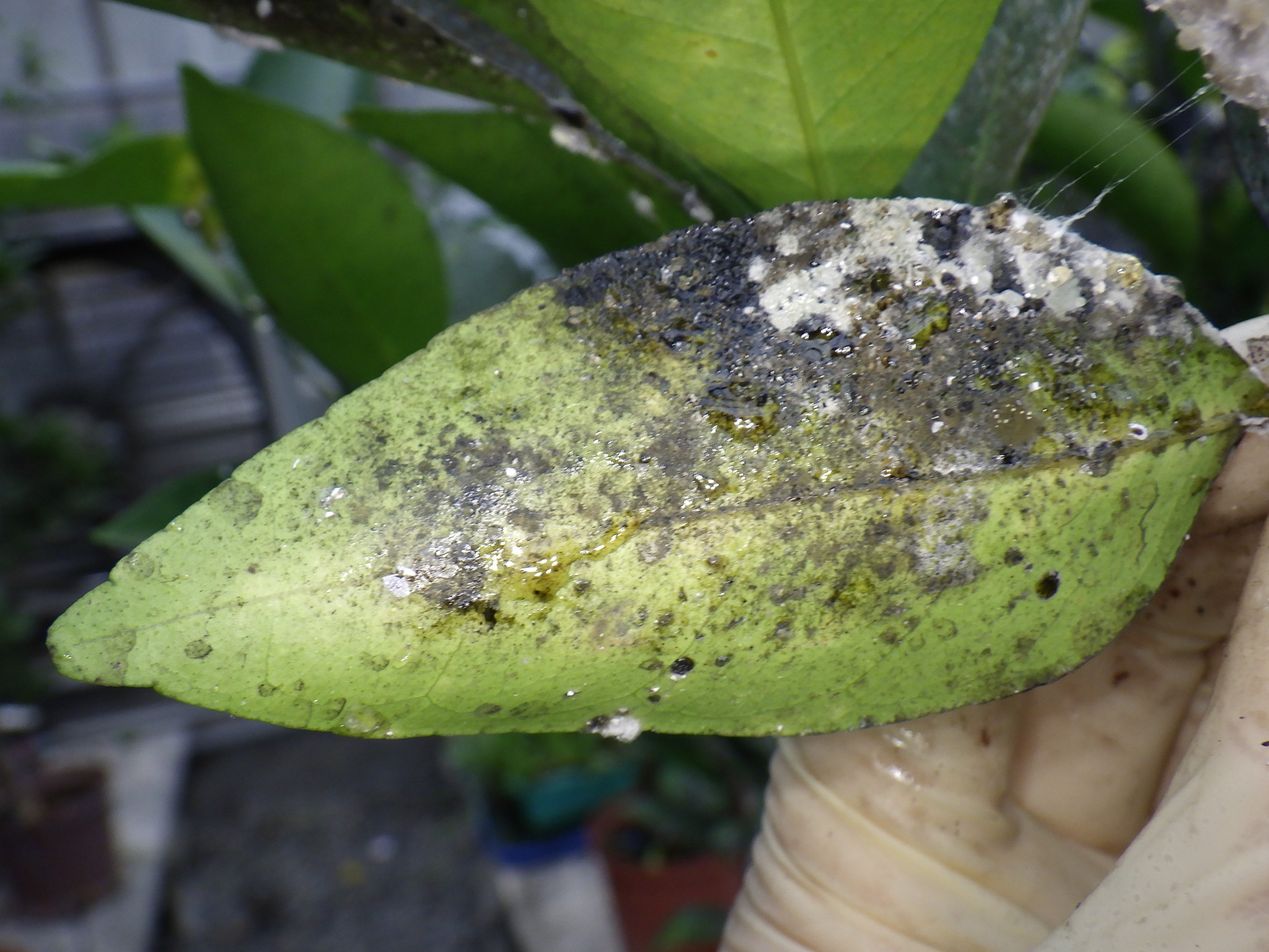Sooty_Mold: (50, 199, 1268, 736)
